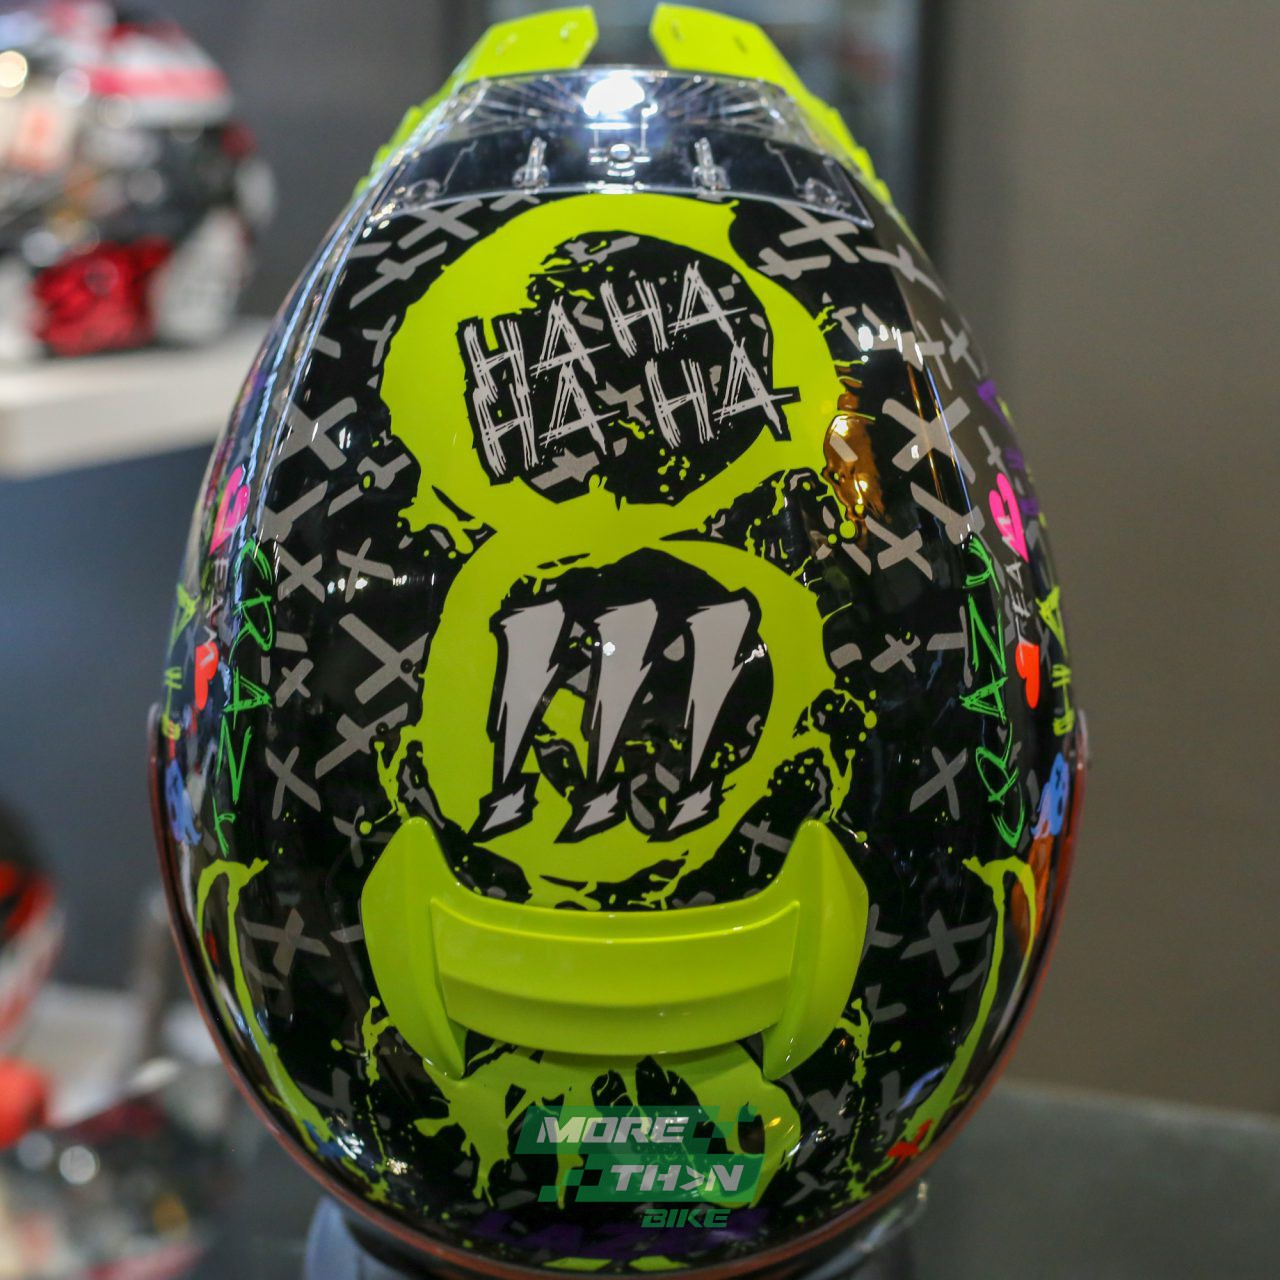helmet: (149, 4, 1087, 1275)
